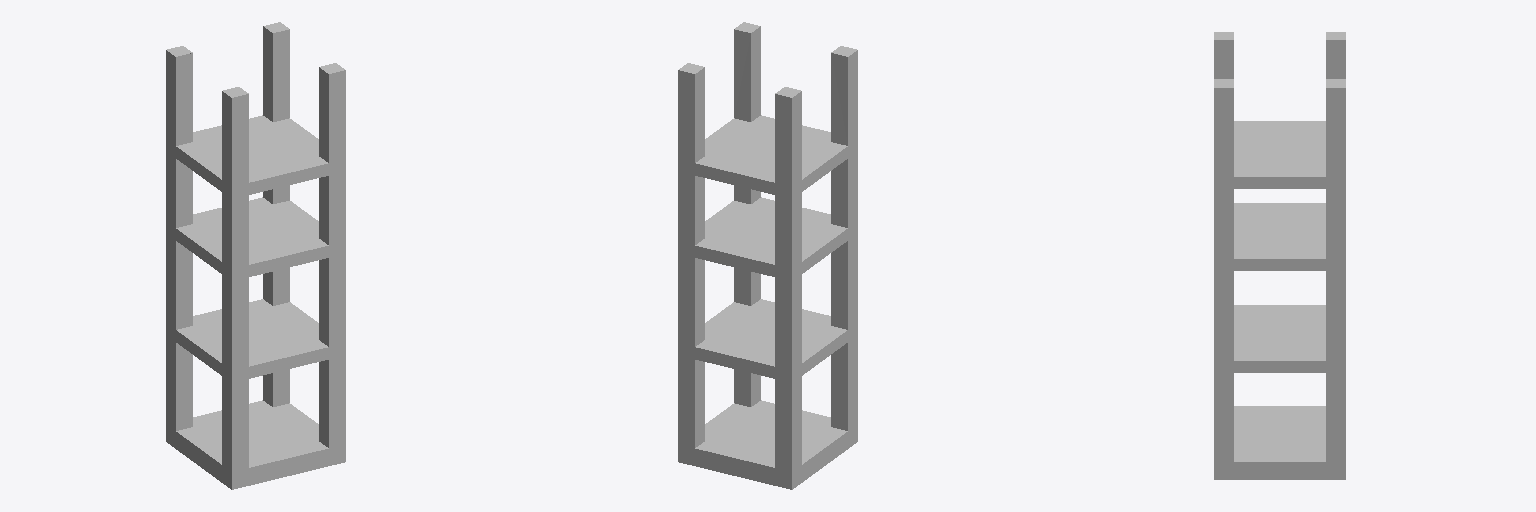
Rendered from shelf_v6_corner.obj.
The picture shows the model from 3 angles: view 1: azimuth 30°, elevation 25°; view 2: azimuth 150°, elevation 25°; view 3: azimuth 270°, elevation 25°; orthographic projection.
Visible parts, largest first — view 1: shelf_v6_corner; view 2: shelf_v6_corner; view 3: shelf_v6_corner.
Part boxes in pixels (bbox=[...]): shelf_v6_corner: bbox=[166, 22, 345, 489]; shelf_v6_corner: bbox=[678, 22, 857, 489]; shelf_v6_corner: bbox=[1214, 32, 1345, 479].
Size of the model in its own units: 4 by 13.13 by 3.99.